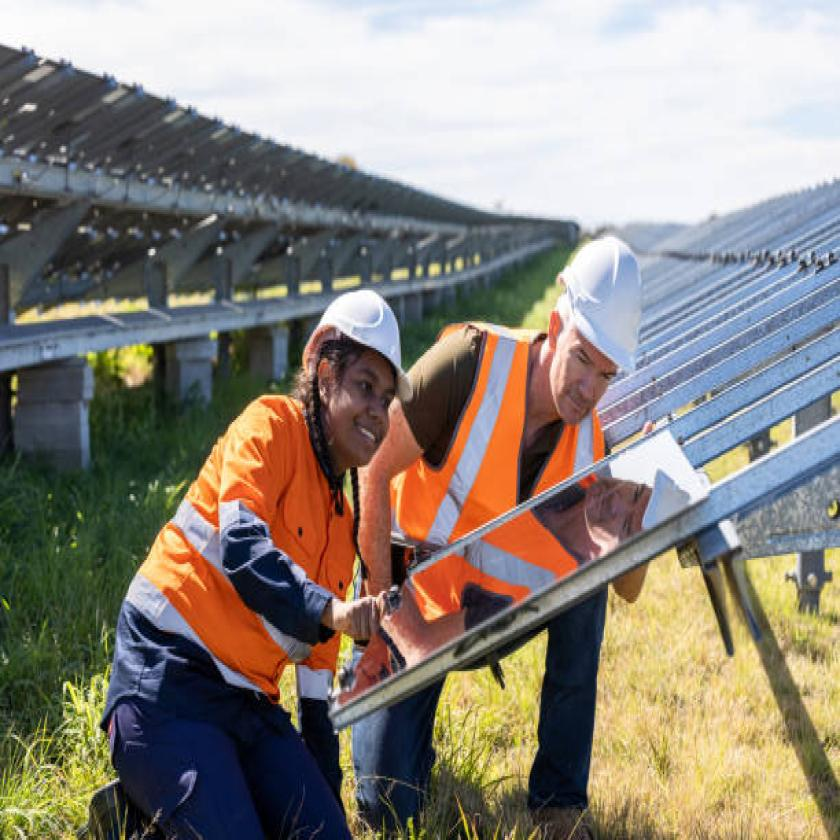Con_casco: (277, 266, 421, 497), (542, 225, 661, 455)
